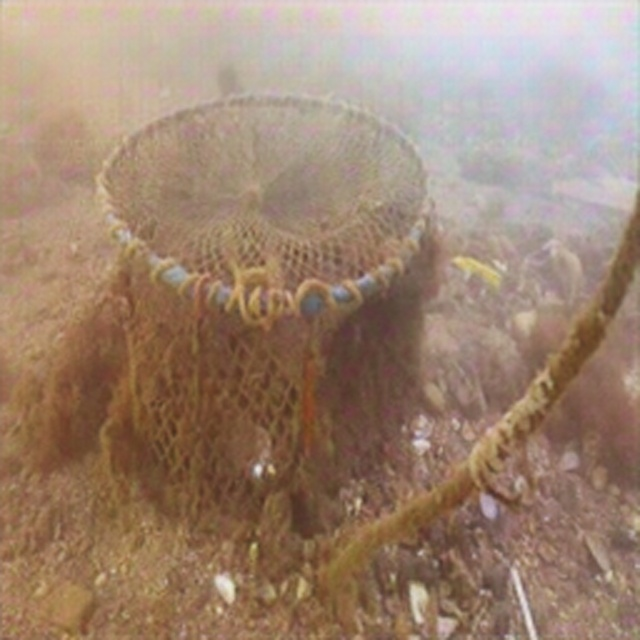mine: (93, 91, 435, 543)
